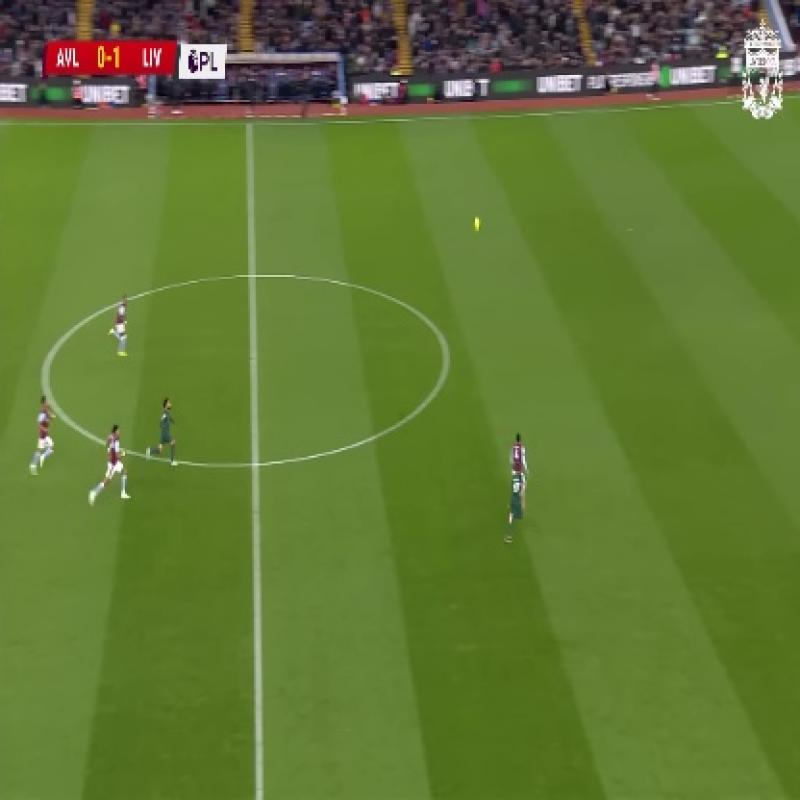13: (236, 108, 260, 138)
14: (234, 254, 268, 296)
15: (239, 440, 270, 486)
c: (428, 336, 469, 378), (24, 354, 64, 397)
